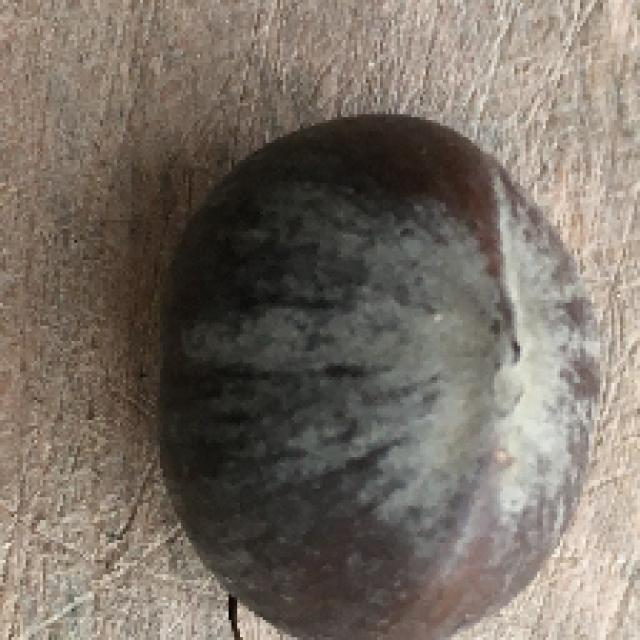DamagedHazelnut: (159, 115, 606, 637)
